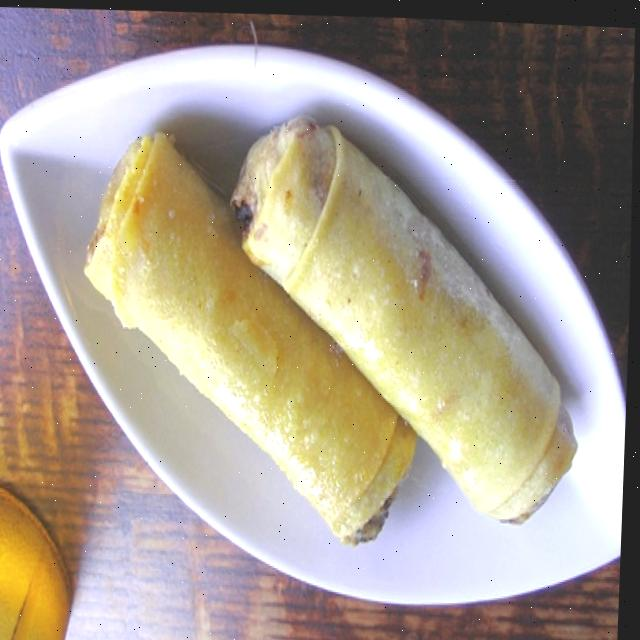炸货点心: (13, 75, 617, 592)
